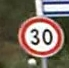limite 30: (15, 14, 66, 56)
